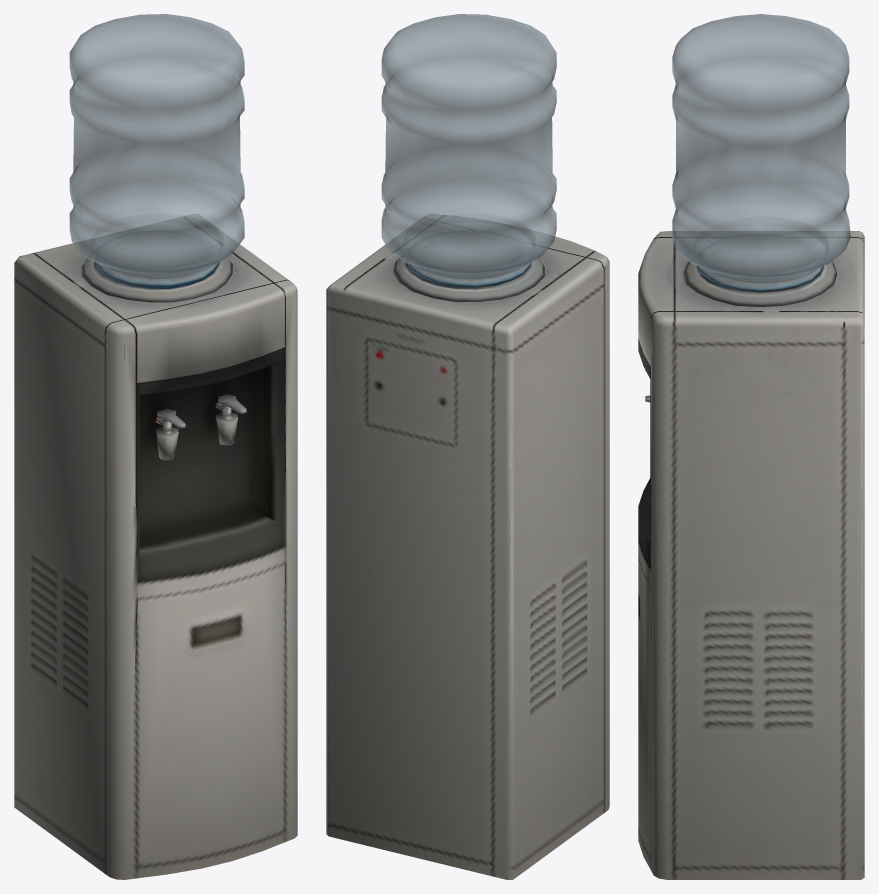
Rendered from ENV_WaterDispenser_v001.fbx.
The picture shows the model from 3 angles, left to right: view 1: azimuth 30°, elevation 25°; view 2: azimuth 150°, elevation 25°; view 3: azimuth 270°, elevation 25°; orthographic projection.
Parts seen in each view (by area): view 1: tripo_node_e819e6ec-d343-46d8-b955-ae939b29c6dc; view 2: tripo_node_e819e6ec-d343-46d8-b955-ae939b29c6dc; view 3: tripo_node_e819e6ec-d343-46d8-b955-ae939b29c6dc.
Boxes of the visible parts, x1=… form: tripo_node_e819e6ec-d343-46d8-b955-ae939b29c6dc: x1=14, y1=14, x2=297, y2=879; tripo_node_e819e6ec-d343-46d8-b955-ae939b29c6dc: x1=326, y1=14, x2=609, y2=879; tripo_node_e819e6ec-d343-46d8-b955-ae939b29c6dc: x1=638, y1=14, x2=864, y2=879.
Size of the model in its own units: 25.2 by 99.8 by 25.98.
Materials: 2 (2 with a texture image).
